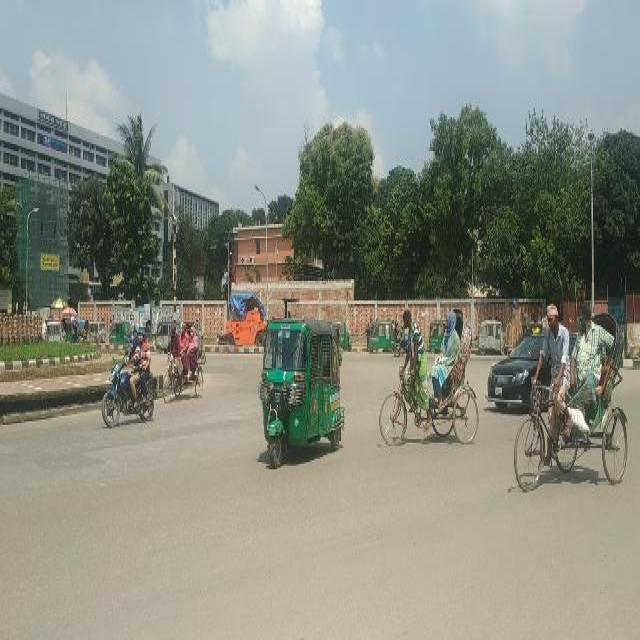car: (482, 352, 538, 409)
motorbike: (100, 354, 154, 428), (216, 331, 227, 345)
rickshaw: (513, 299, 629, 494), (378, 308, 478, 450), (163, 321, 203, 401), (142, 318, 154, 340), (77, 317, 86, 344)
three wheelers -CNG-: (258, 314, 346, 468), (476, 318, 506, 354), (366, 316, 394, 352), (108, 319, 132, 346), (427, 318, 443, 354), (154, 317, 168, 351), (87, 318, 105, 343), (48, 321, 66, 344)
